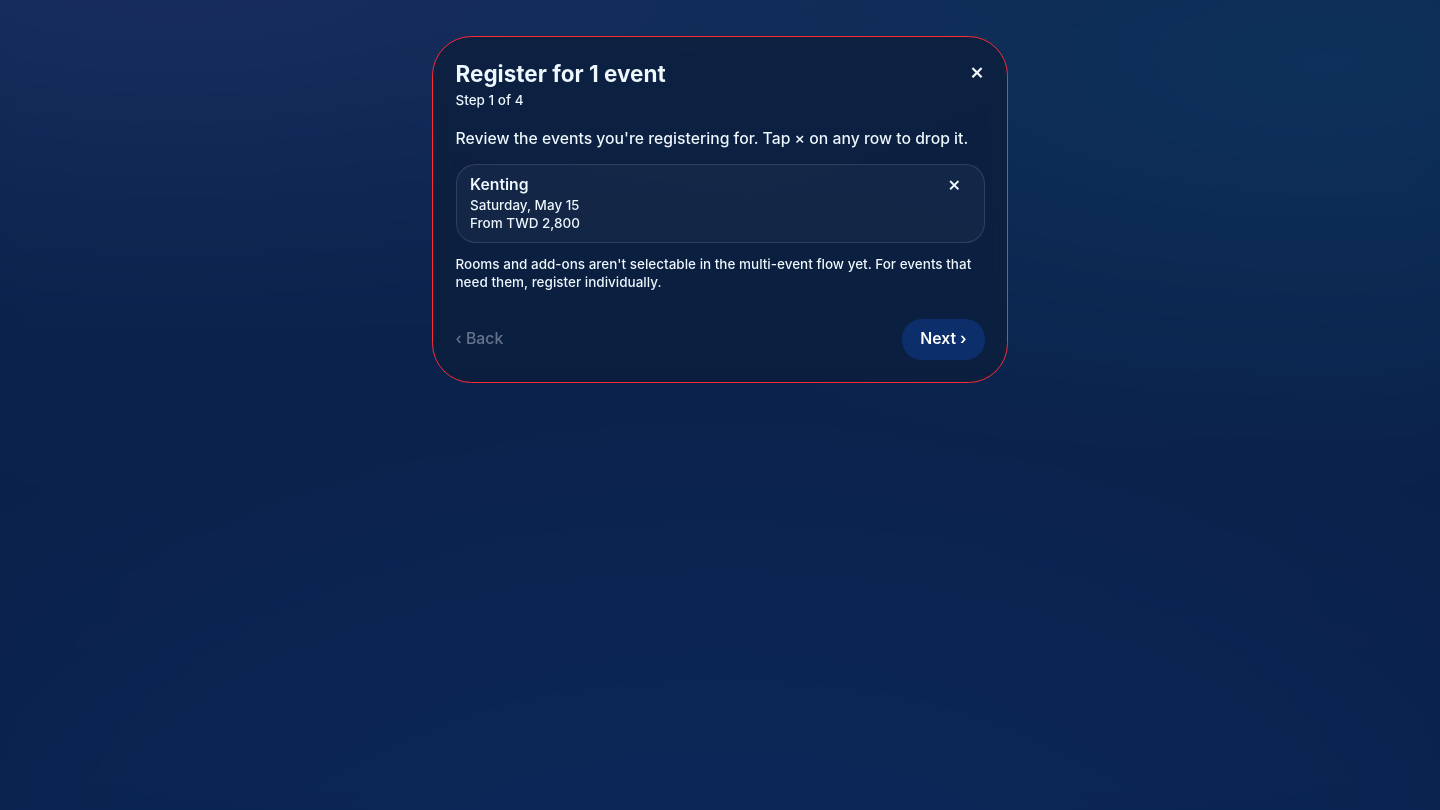
Scenario: MultiRegisterForm parent diver picker › asks for the legal name, with the passport / ID hint
The width and height of the screenshot is (1440, 810).
Click the button "Next ›": [943, 339] box [902,319,984,360]
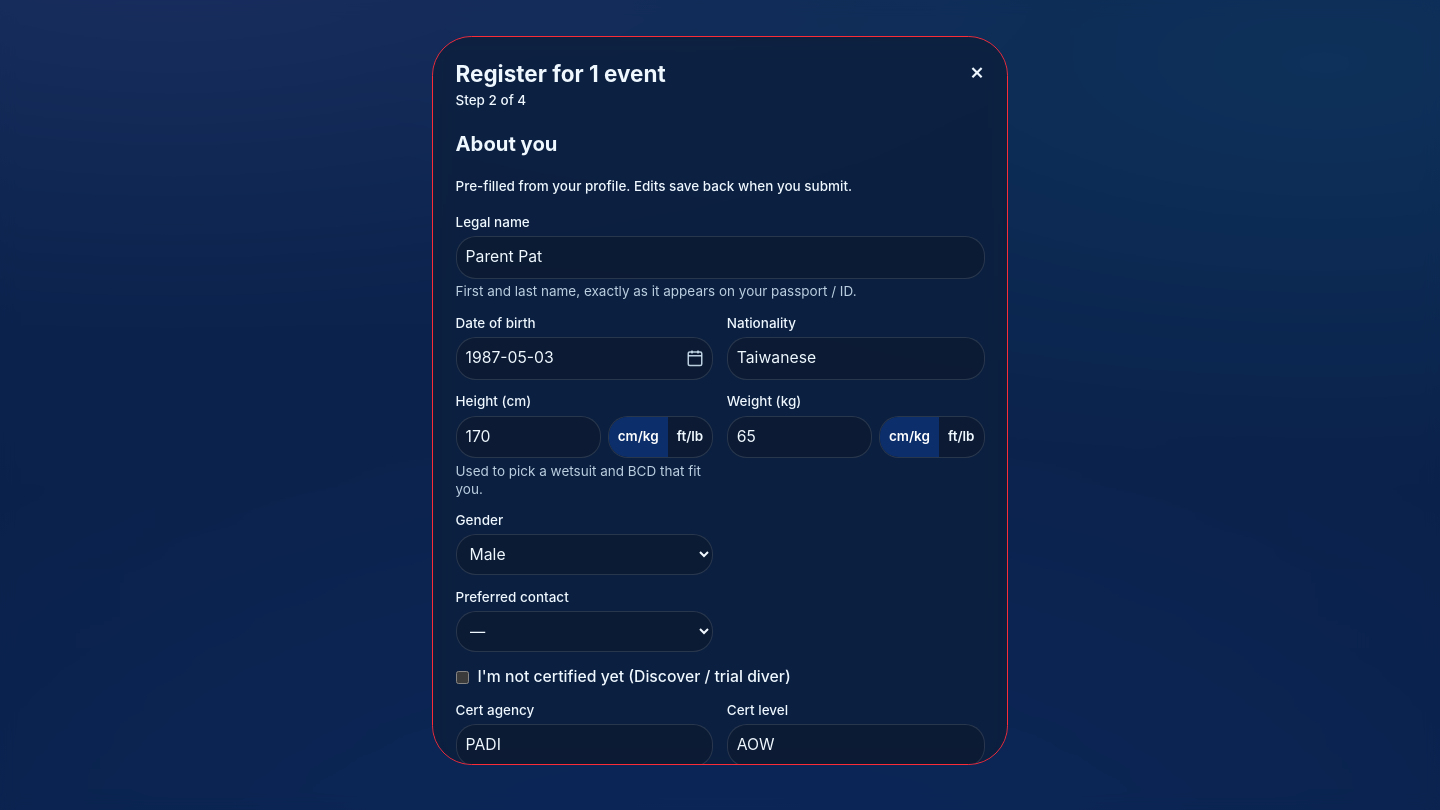
Now the field labelled "Legal name" is shown, box [456,236,984,279]
Now the text "exactly as it appears on your passport" is shown, box [456,283,856,299]
